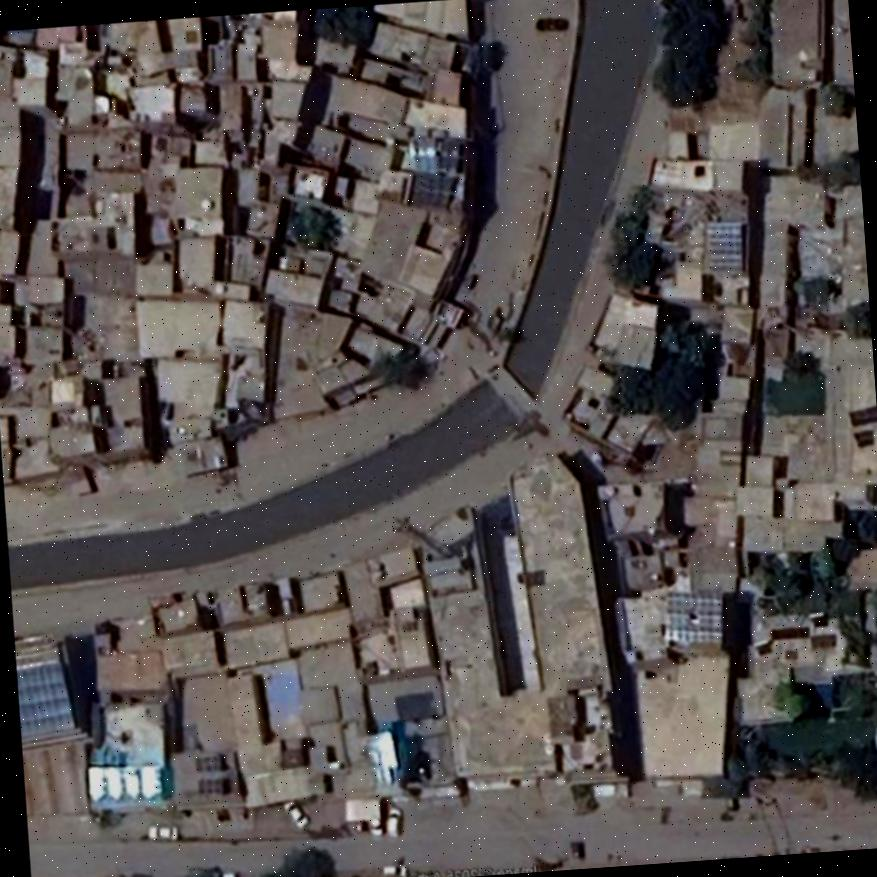Solarpanel: (16, 661, 74, 735), (665, 589, 720, 647), (86, 765, 164, 795), (703, 220, 742, 272), (849, 406, 877, 425), (193, 753, 222, 769), (853, 429, 872, 447), (198, 779, 223, 792)
